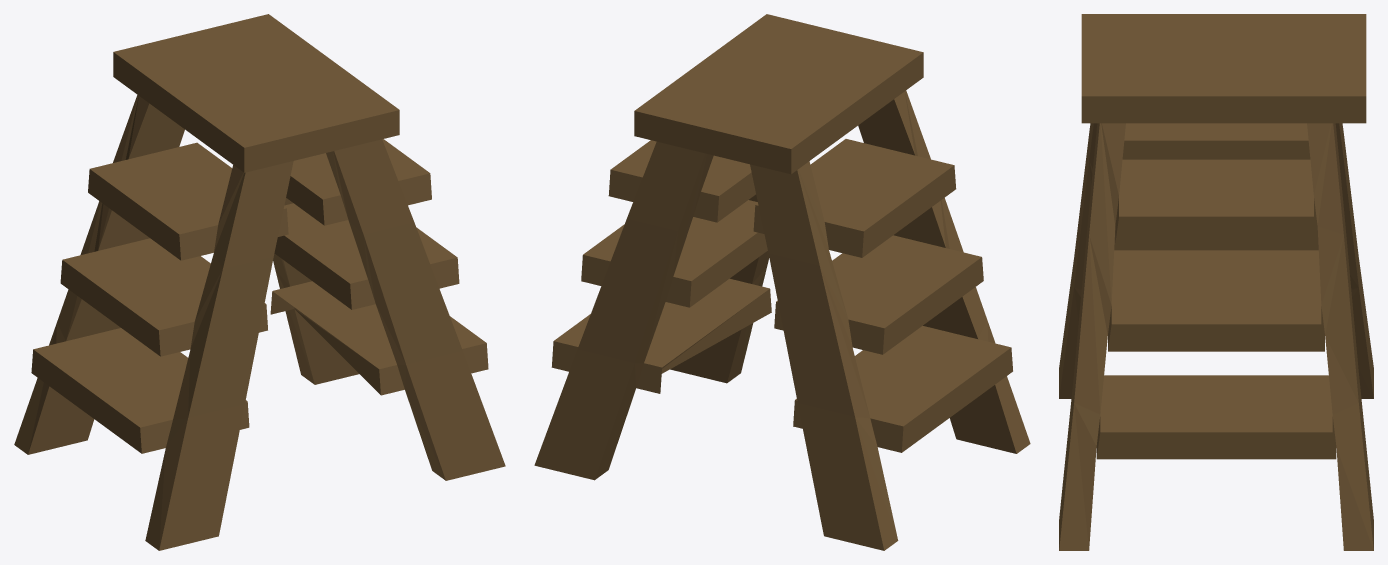
The model's file is obj_stepladder_0.obj.
3 renders of one model, left to right at view 1: azimuth 30°, elevation 25°; view 2: azimuth 150°, elevation 25°; view 3: azimuth 270°, elevation 25°, orthographic. The views are drawn at different scales.
Size of the model in its own units: 0.9062 by 0.9297 by 0.6562.
